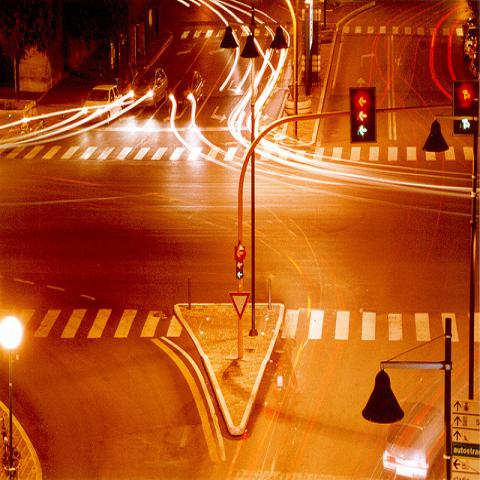car: (382, 400, 445, 479), (126, 66, 168, 110), (82, 84, 122, 125), (163, 71, 207, 107)
